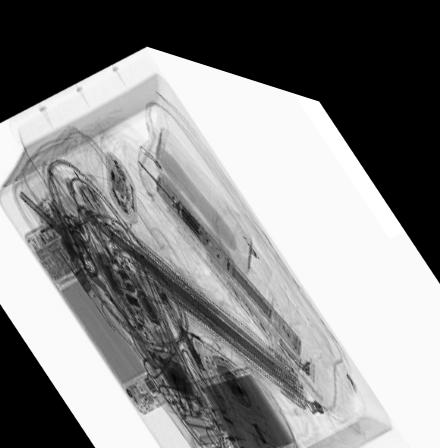Powerbank: (192, 346, 300, 448)
